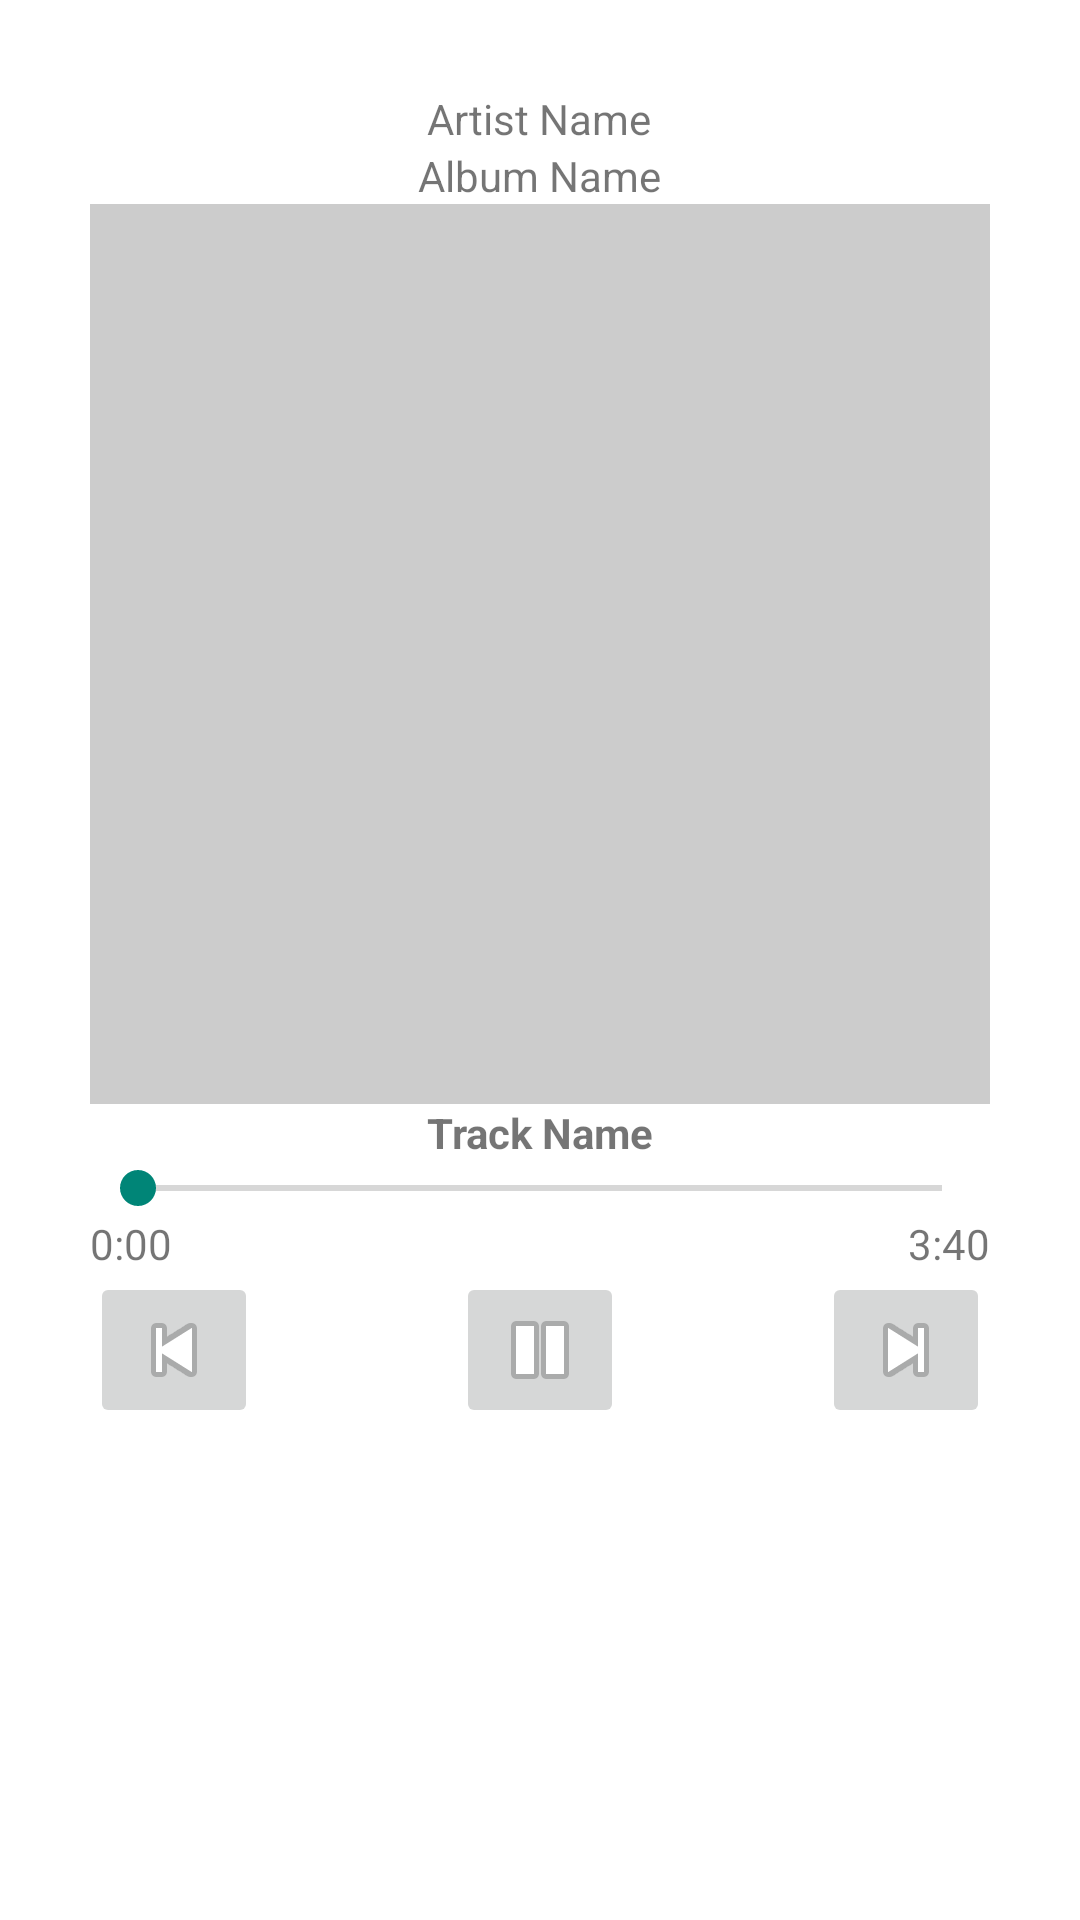

Icons on this 1080px×1920px Android screen, each with the point to tap as (x,y):
next: (906,1350)
pause: (540,1350)
previous: (174,1350)
